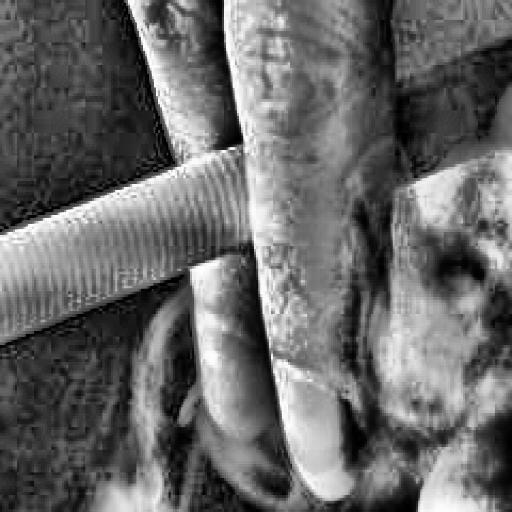Merokok: (0, 147, 245, 343)
Rokok: (0, 0, 512, 512)
